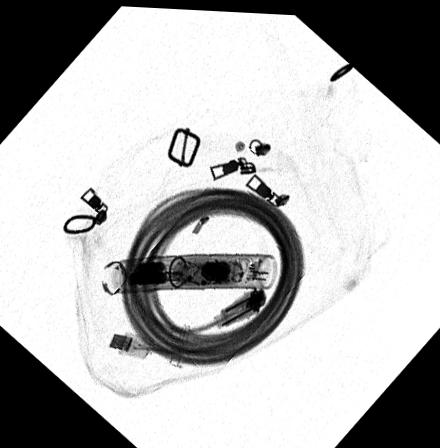Baton: (98, 251, 280, 294)
